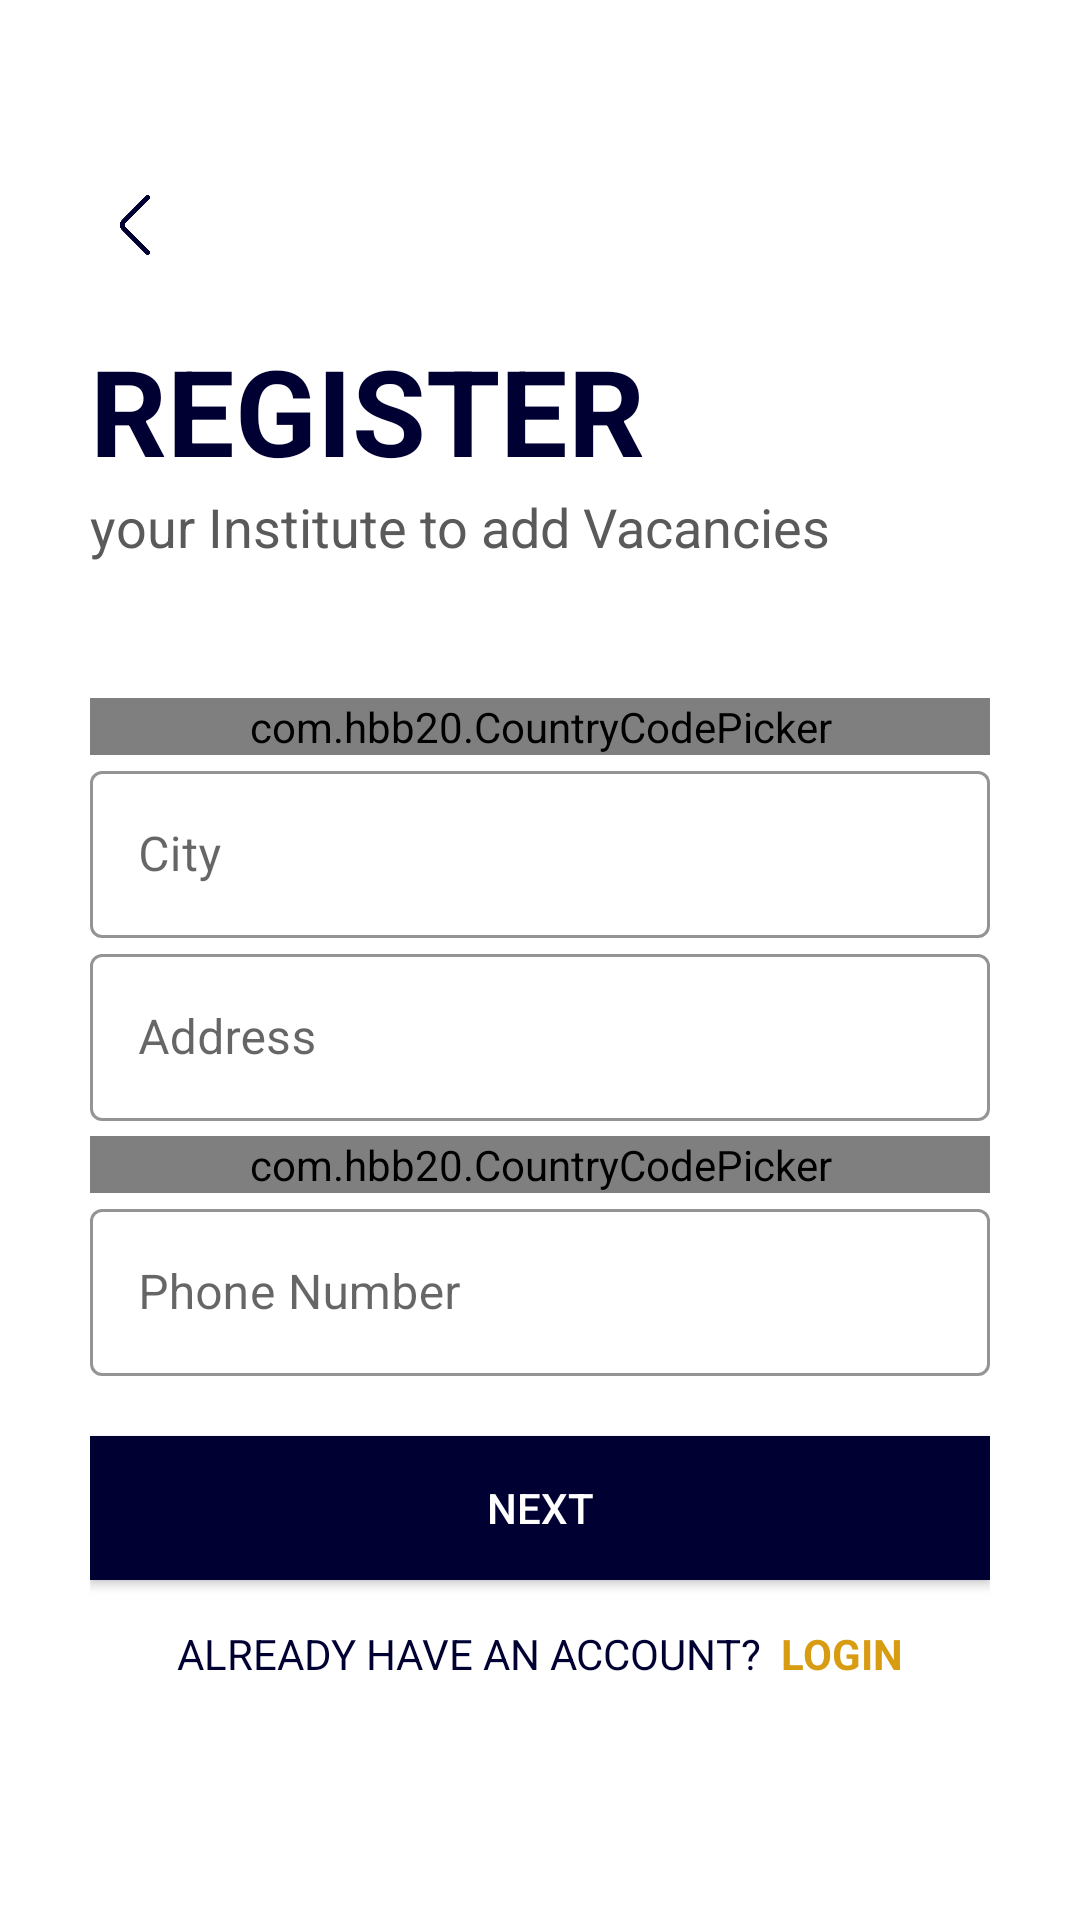

Icons on this 1080x1920 Android screen, each with its box as box=[x1, y1, x2, y2]:
leftarrow: box=[120, 195, 150, 255]
